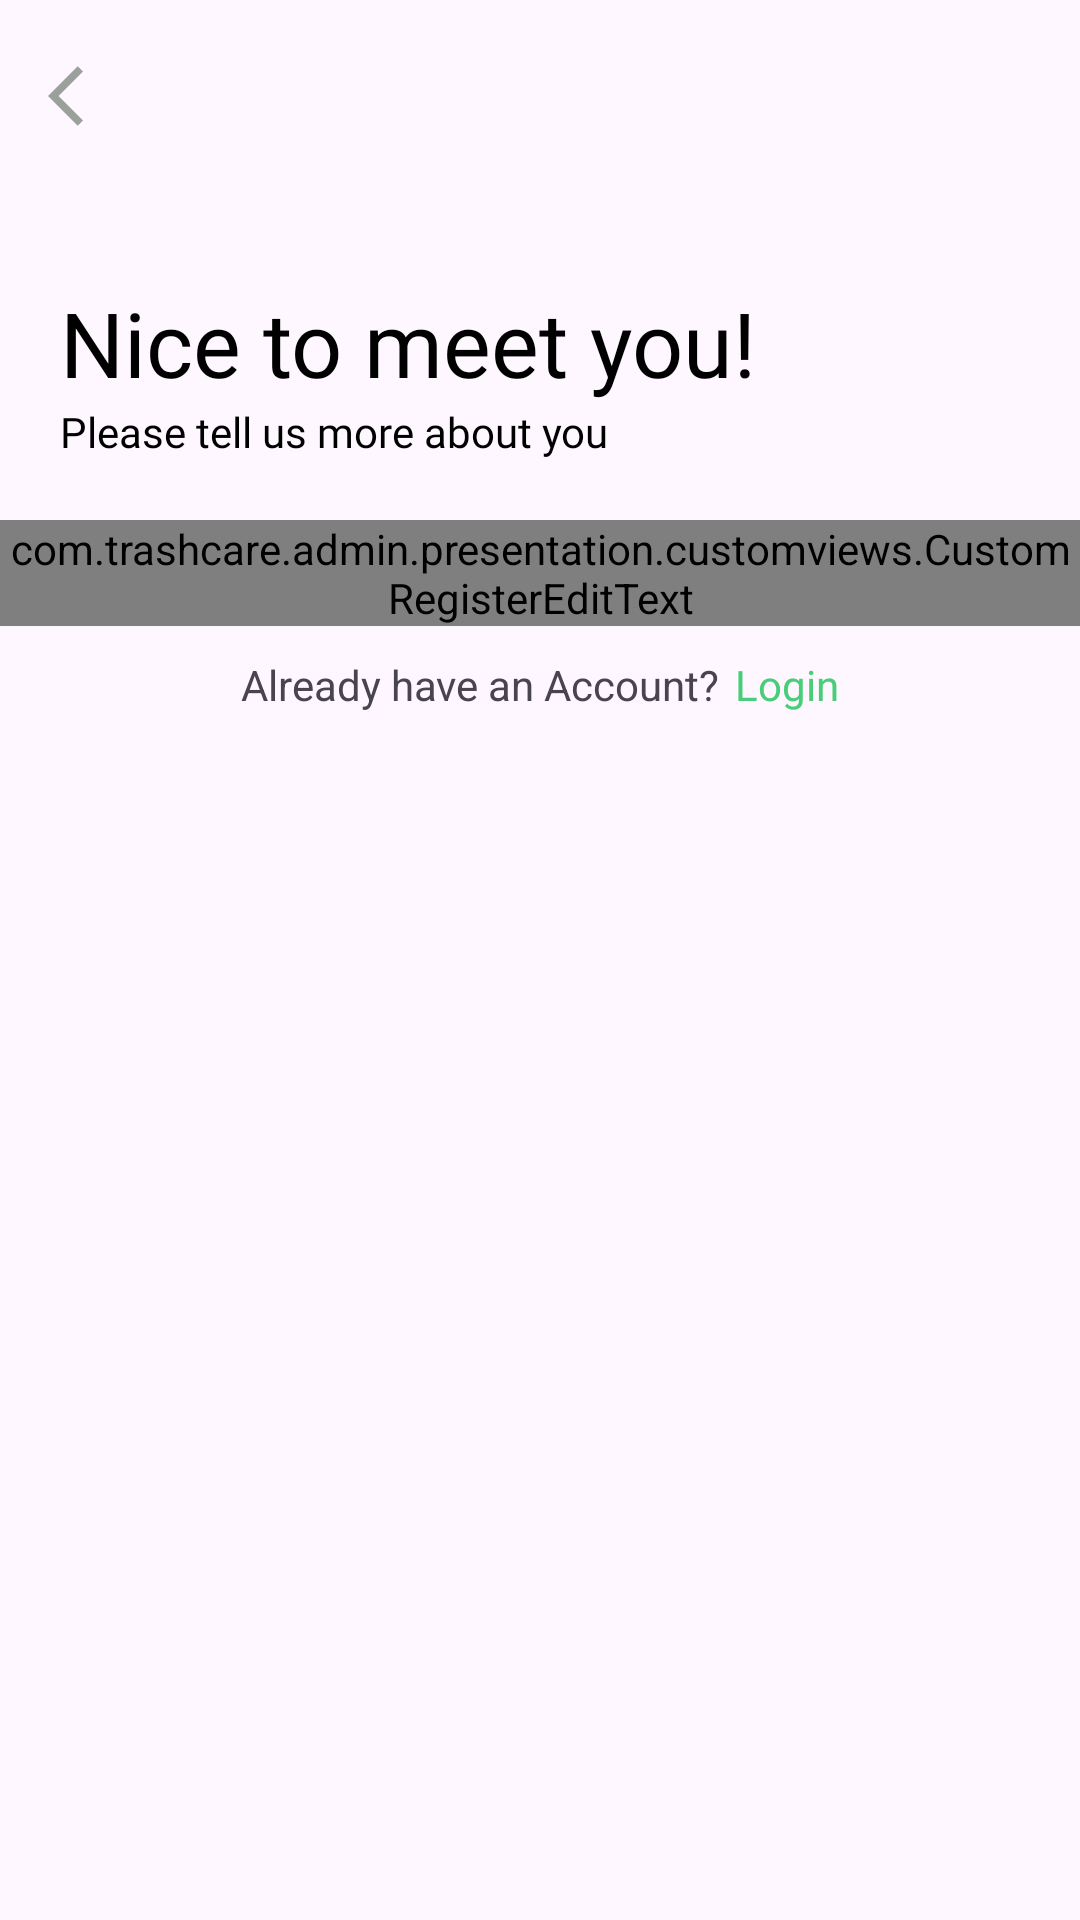

Icons on this 1080×1920 Android screen, each with the point to tap as [x,y]:
Back button: [65,96]
